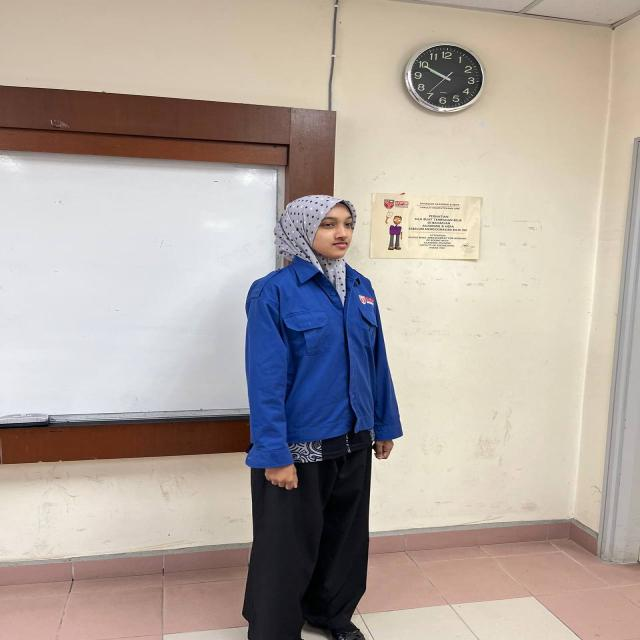person_with_labcoat: (243, 195, 402, 640)
